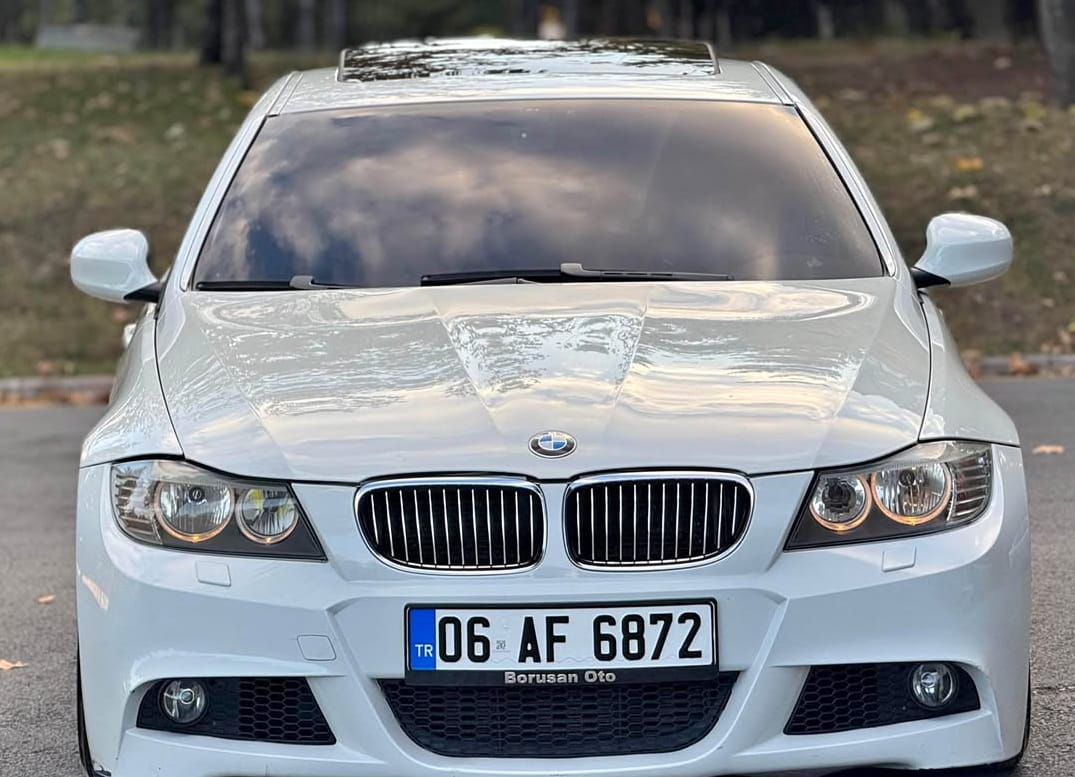plaka: (433, 597, 724, 674)
